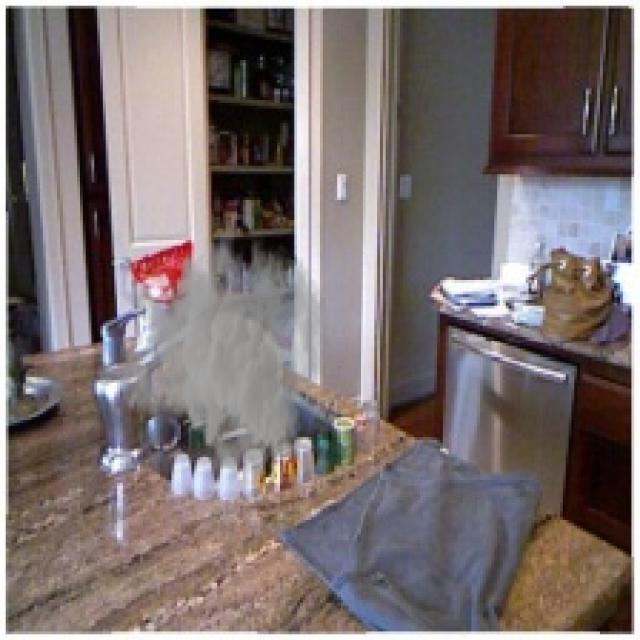smoke: (120, 211, 331, 486)
